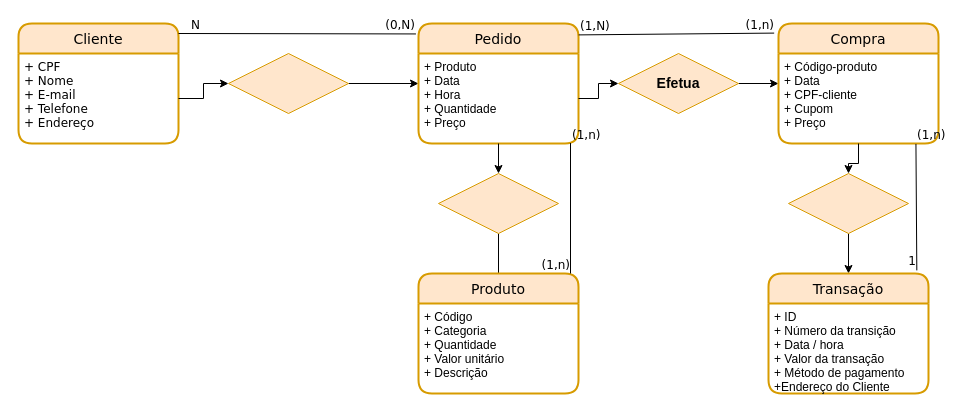
The diagram is 963 pixels wide and 412 high, and some of its shapes have lost their labels. The centre of each missing label's shape, as x and y in pixels:
"Através" belongs at point 848,203.
"Contém" belongs at point 498,203.
"Faz" belongs at point 288,83.
